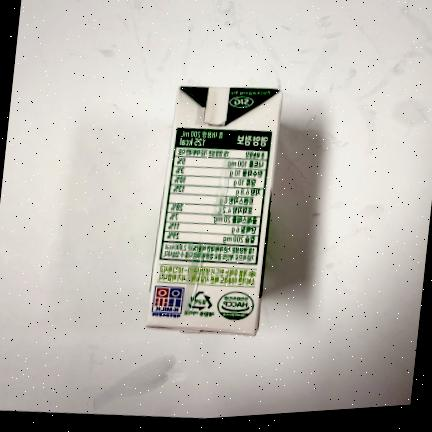milk_green: (145, 85, 281, 338)
